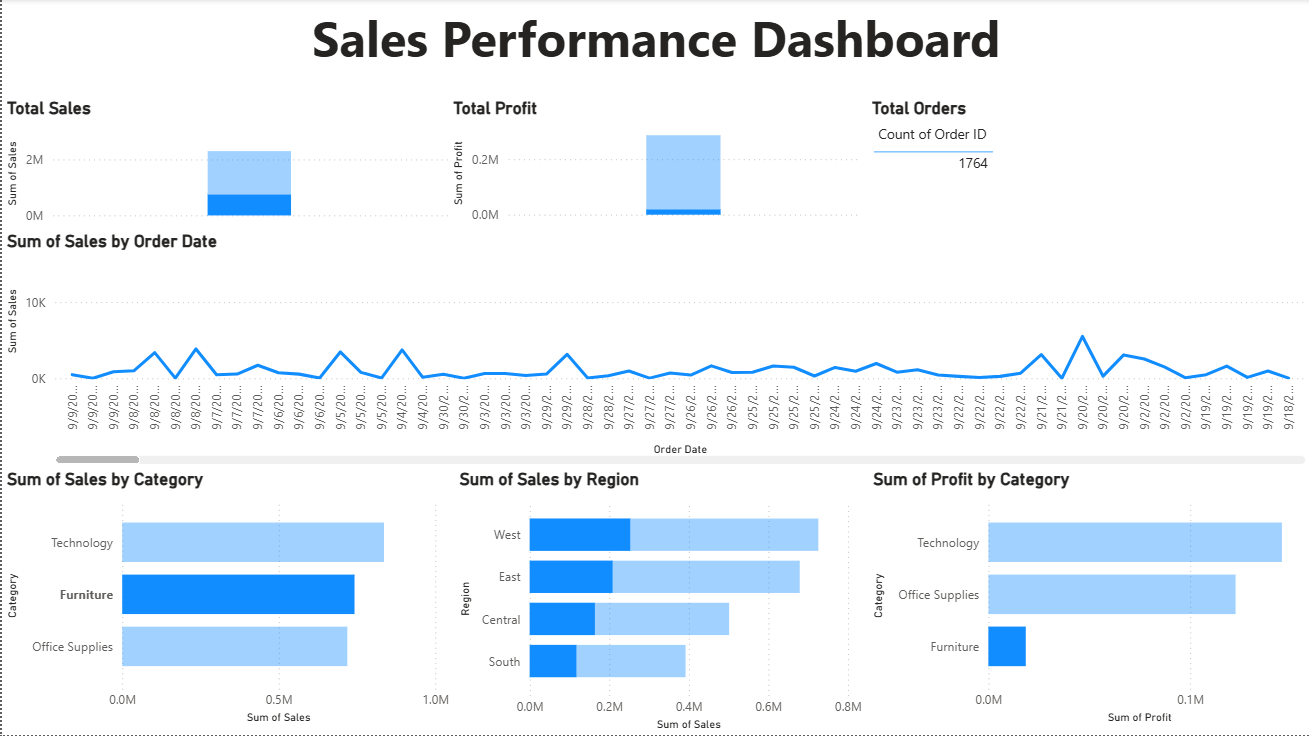

The dashboard page shown, as its layout file describes it:
{"tool":"powerbi","page":{"name":"Page 1","canvas":[1280,720],"ordinal":0},"visuals":[{"type":"columnChart","title":"Total Sales","fields":{"Y":["Sum(Sample - Superstore.Sales)"]},"box":[0,96.4,443.1,129.2],"z":0},{"type":"clusteredColumnChart","title":"Total Profit","fields":{"Y":["Sum(Sample - Superstore.Profit)"]},"box":[436.5,96.4,409.7,128.5],"z":1000},{"type":"lineChart","fields":{"Category":["Sample - Superstore.Order Date"],"Y":["Sum(Sample - Superstore.Sales)"]},"box":[0,225.6,1280,233.8],"z":3000},{"type":"barChart","fields":{"Y":["Sum(Sample - Superstore.Sales)"],"Category":["Sample - Superstore.Category"]},"box":[0,459.5,443.1,254.4],"z":4000},{"type":"barChart","fields":{"Category":["Sample - Superstore.Region"],"Y":["Sum(Sample - Superstore.Sales)"]},"box":[443.1,459.5,404.1,260.5],"z":5000},{"type":"barChart","fields":{"Category":["Sample - Superstore.Category"],"Y":["Sum(Sample - Superstore.Profit)"]},"box":[847.2,459.5,432.8,254.4],"z":6000},{"type":"textbox","box":[0,0,1280,96.4],"z":7000},{"type":"tableEx","title":"Total Orders","fields":{"Values":["Sample - Superstore.Order ID"]},"box":[846.2,96.4,433.8,128.5],"z":7001}]}

Visuals, with their boxes in screenshot pixels (x1, y1, x2, y2), scaled from the page's 1280x720 canvas onto the 1309x736 screenshot:
"Total Sales" columnChart: BBox(0, 99, 453, 231)
"Total Profit" clusteredColumnChart: BBox(446, 99, 865, 230)
lineChart - Sample - Superstore.Order Date x Sum(Sample - Superstore.Sales): BBox(0, 231, 1308, 470)
barChart - Sum(Sample - Superstore.Sales) x Sample - Superstore.Category: BBox(0, 470, 453, 730)
barChart - Sample - Superstore.Region x Sum(Sample - Superstore.Sales): BBox(453, 470, 866, 735)
barChart - Sample - Superstore.Category x Sum(Sample - Superstore.Profit): BBox(866, 470, 1308, 730)
textbox: BBox(0, 0, 1308, 99)
"Total Orders" tableEx: BBox(865, 99, 1308, 230)
